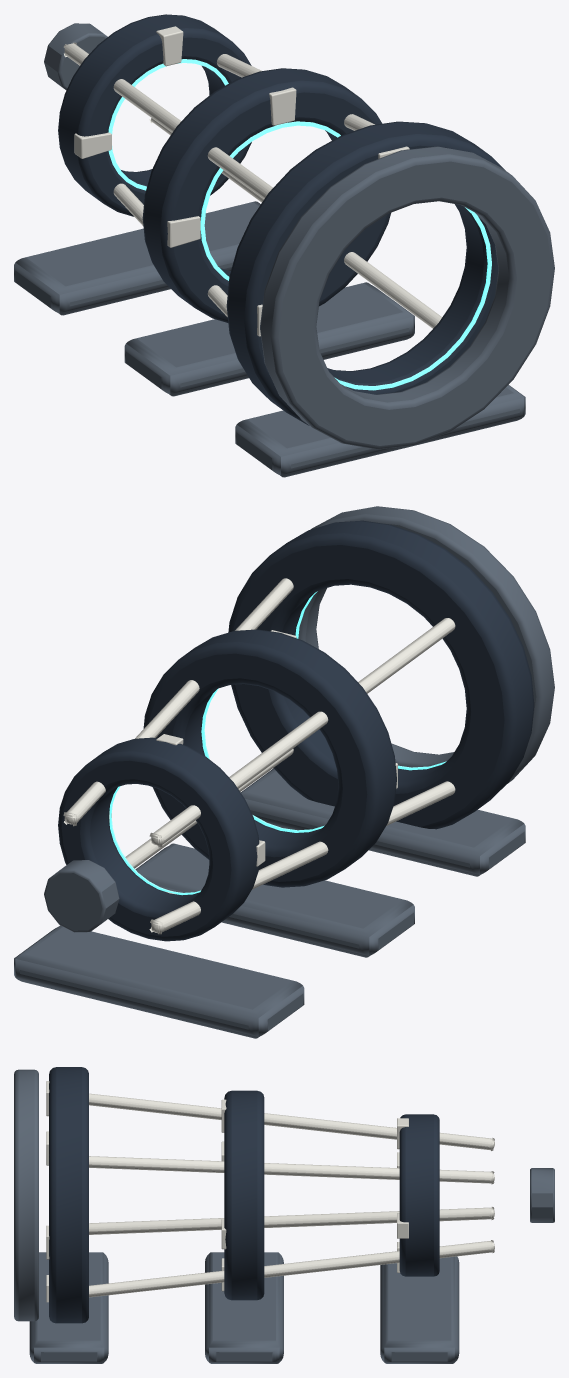
File: compaction_chamber.glb
3 views of the same model, one above another, from view 1: azimuth 30°, elevation 25°; view 2: azimuth 150°, elevation 25°; view 3: azimuth 270°, elevation 25° (orthographic). The views are drawn at different scales.
Visible parts, largest first — view 1: compaction_chamber__input, compaction_chamber__ring_A, compaction_chamber__ring_B, compaction_chamber__ring_C, compaction_chamber__foot__02, compaction_chamber__foot__03, compaction_chamber__foot, compaction_chamber__compression_piston__02, compaction_chamber__compression_piston__04, compaction_chamber__output, compaction_chamber__ring_A_emissive, compaction_chamber__ring_B_emissive (+3 smaller); view 2: compaction_chamber__ring_A, compaction_chamber__ring_B, compaction_chamber__ring_C, compaction_chamber__foot__03, compaction_chamber__foot__02, compaction_chamber__input, compaction_chamber__foot, compaction_chamber__compression_piston__02, compaction_chamber__output, compaction_chamber__compression_piston__03, compaction_chamber__compression_piston, compaction_chamber__compression_piston__04; view 3: compaction_chamber__ring_A, compaction_chamber__ring_B, compaction_chamber__foot__03, compaction_chamber__ring_C, compaction_chamber__foot__02, compaction_chamber__input, compaction_chamber__foot, compaction_chamber__compression_piston__04, compaction_chamber__compression_piston, compaction_chamber__compression_piston__02, compaction_chamber__compression_piston__03, compaction_chamber__output.
Part boxes in pixels (x1=…): compaction_chamber__input: x1=260, y1=146, x2=554, y2=449; compaction_chamber__ring_A: x1=226, y1=121, x2=505, y2=425; compaction_chamber__ring_B: x1=142, y1=68, x2=390, y2=322; compaction_chamber__ring_C: x1=58, y1=14, x2=251, y2=216; compaction_chamber__foot__02: x1=124, y1=282, x2=414, y2=396; compaction_chamber__foot__03: x1=14, y1=201, x2=260, y2=315; compaction_chamber__foot: x1=235, y1=384, x2=525, y2=477; compaction_chamber__compression_piston__02: x1=63, y1=42, x2=272, y2=199; compaction_chamber__compression_piston__04: x1=149, y1=118, x2=442, y2=328; compaction_chamber__output: x1=44, y1=23, x2=107, y2=90; compaction_chamber__ring_A_emissive: x1=334, y1=207, x2=491, y2=390; compaction_chamber__ring_B_emissive: x1=200, y1=121, x2=340, y2=280; compaction_chamber__ring_A: x1=228, y1=520, x2=534, y2=829; compaction_chamber__ring_B: x1=143, y1=629, x2=397, y2=887; compaction_chamber__ring_C: x1=58, y1=734, x2=265, y2=941; compaction_chamber__foot__03: x1=14, y1=925, x2=304, y2=1038; compaction_chamber__foot__02: x1=135, y1=843, x2=414, y2=957; compaction_chamber__input: x1=298, y1=506, x2=554, y2=783; compaction_chamber__foot: x1=241, y1=768, x2=525, y2=876; compaction_chamber__compression_piston__02: x1=149, y1=618, x2=455, y2=847; compaction_chamber__output: x1=44, y1=860, x2=119, y2=932; compaction_chamber__compression_piston__03: x1=149, y1=781, x2=455, y2=934; compaction_chamber__compression_piston: x1=63, y1=578, x2=293, y2=826; compaction_chamber__compression_piston__04: x1=125, y1=749, x2=293, y2=868; compaction_chamber__ring_A: x1=46, y1=1067, x2=88, y2=1323; compaction_chamber__ring_B: x1=221, y1=1090, x2=264, y2=1300; compaction_chamber__foot__03: x1=380, y1=1256, x2=459, y2=1363; compaction_chamber__ring_C: x1=397, y1=1114, x2=439, y2=1276; compaction_chamber__foot__02: x1=205, y1=1252, x2=283, y2=1363; compaction_chamber__input: x1=14, y1=1069, x2=38, y2=1321; compaction_chamber__foot: x1=29, y1=1252, x2=108, y2=1363; compaction_chamber__compression_piston__04: x1=89, y1=1240, x2=494, y2=1297; compaction_chamber__compression_piston: x1=89, y1=1156, x2=494, y2=1184; compaction_chamber__compression_piston__02: x1=89, y1=1093, x2=494, y2=1150; compaction_chamber__compression_piston__03: x1=89, y1=1207, x2=494, y2=1234; compaction_chamber__output: x1=530, y1=1168, x2=554, y2=1222.
Bounding box in the file's own units: 2.2 × 2.2 × 4.5.
